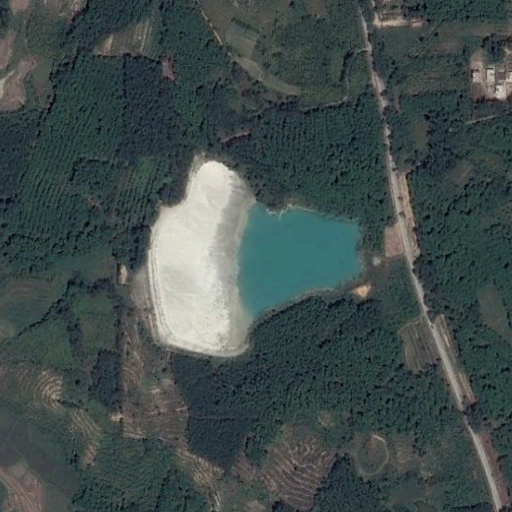tp: (142, 157, 363, 360)
